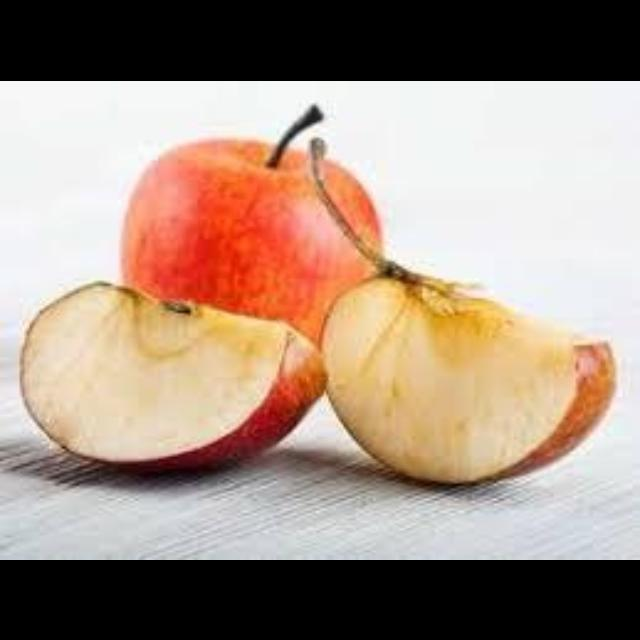apple: (311, 139, 610, 480), (121, 102, 371, 339), (20, 283, 324, 468), (329, 159, 381, 246)
